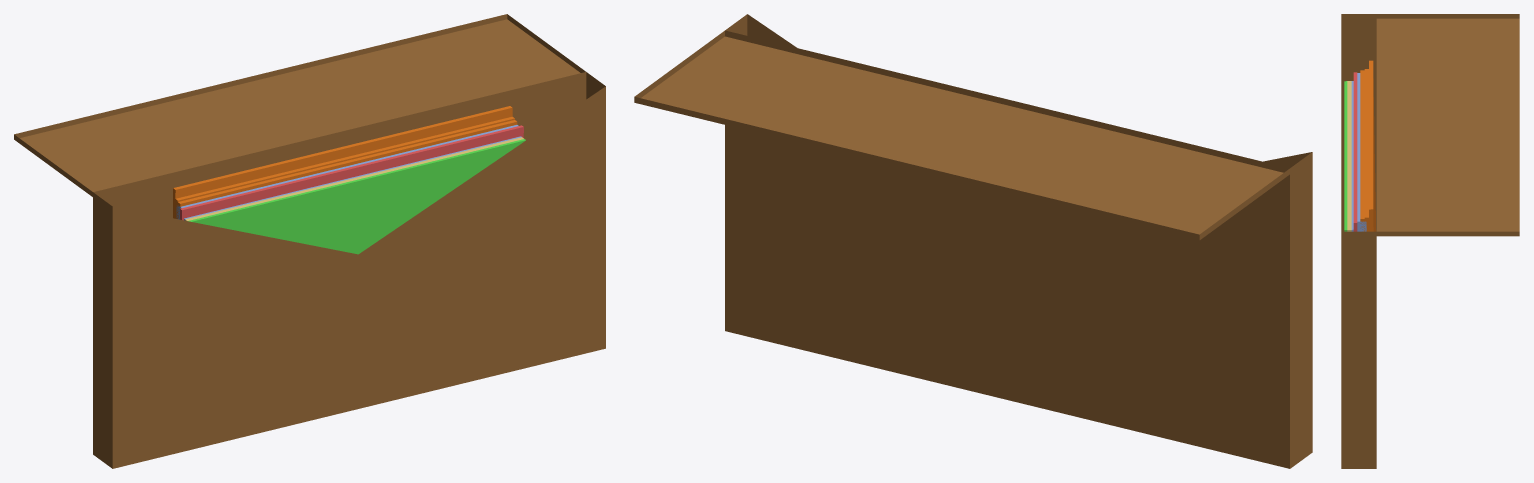
The model's file is envelope.fbx.
The picture shows the model from 3 angles, left to right: view 1: azimuth 30°, elevation 25°; view 2: azimuth 150°, elevation 25°; view 3: azimuth 270°, elevation 25°; orthographic projection. The views are drawn at different scales.
Visible parts, largest first — view 1: Cube; view 2: Cube; view 3: Cube.
Part boxes in pixels (x1=…): Cube: x1=14, y1=14, x2=605, y2=468; Cube: x1=634, y1=14, x2=1312, y2=468; Cube: x1=1341, y1=14, x2=1519, y2=468.
Size of the model in its own units: 133 by 67.55 by 46.03.
